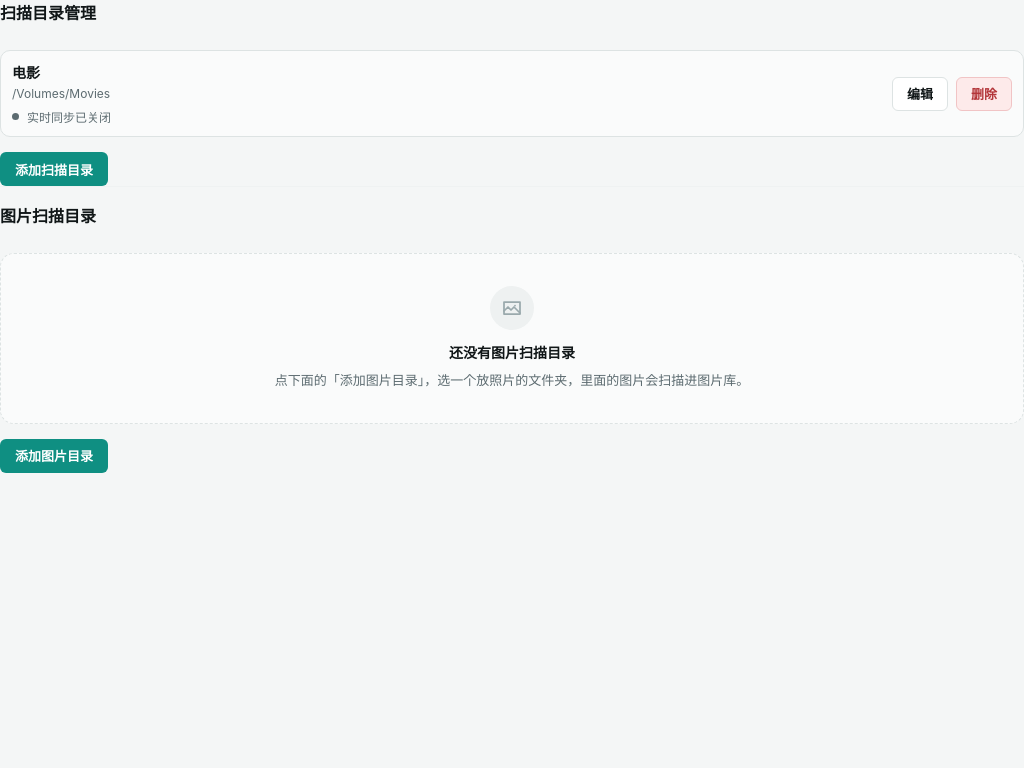
Test: 添加目录的去重与嵌套提示、错误显示（D-PC09） › LIB-14 图片目录的保存失败同样显示出来
The image size is (1024, 768).
Click the button with test id "add-image-directory" at (54, 456), box left=0, top=439, right=108, bottom=473
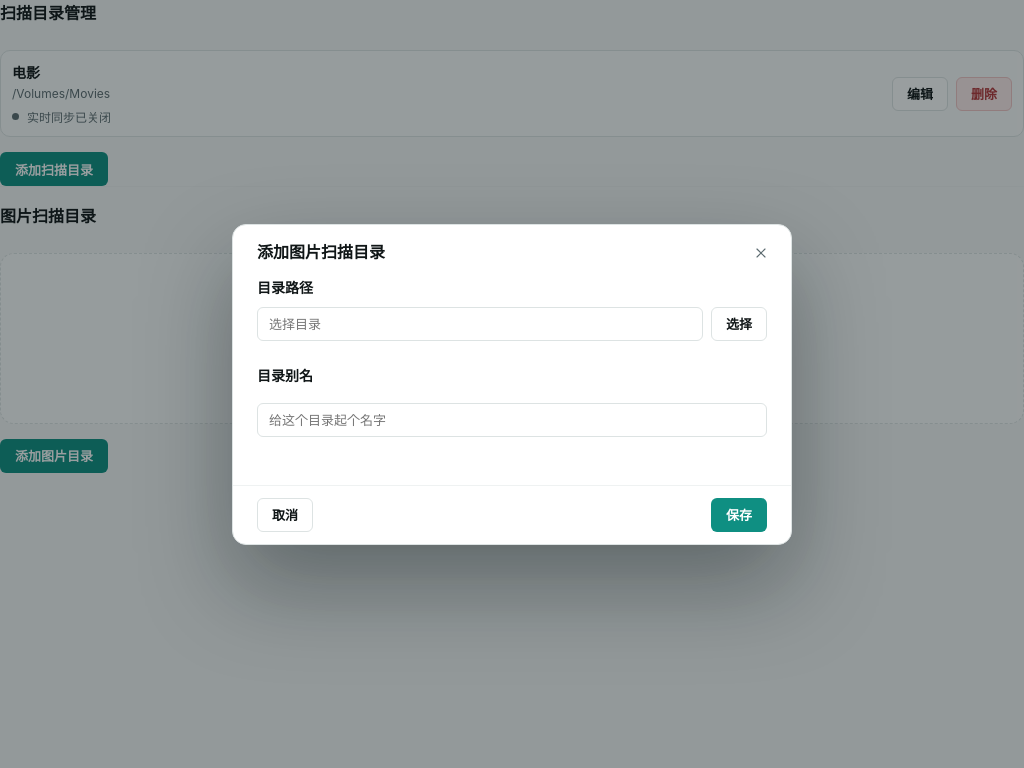
Click the button "选择" at (739, 324), box left=711, top=306, right=767, bottom=340
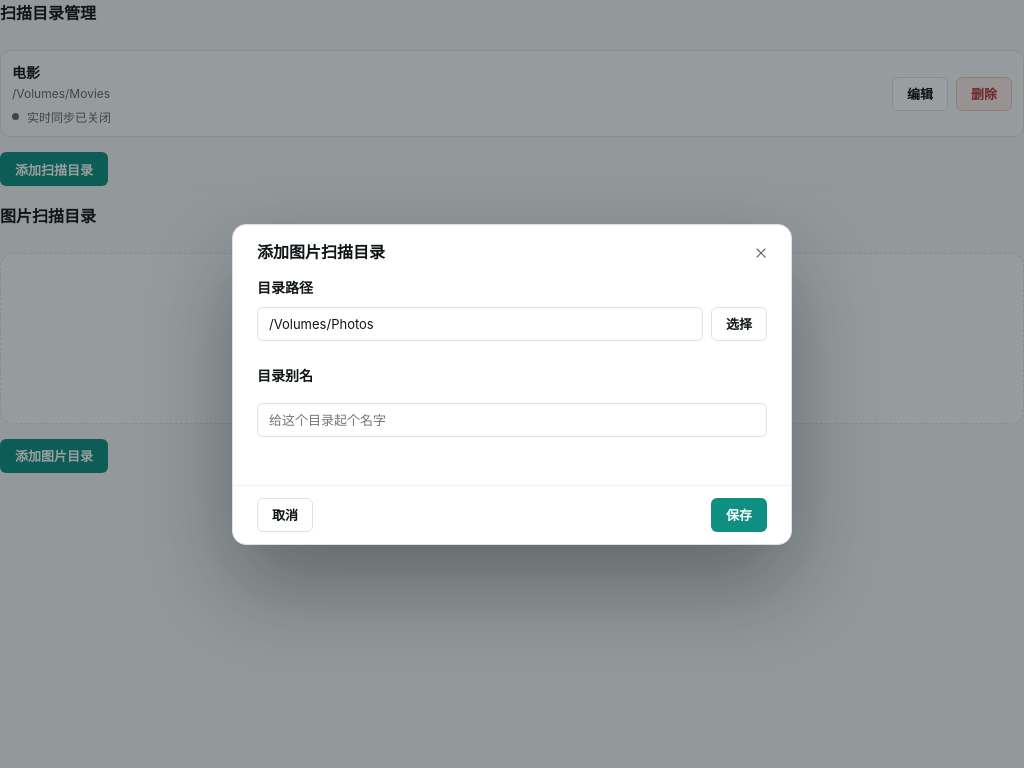
Click the button with test id "save-image-directory" at (739, 514), box left=711, top=498, right=767, bottom=532
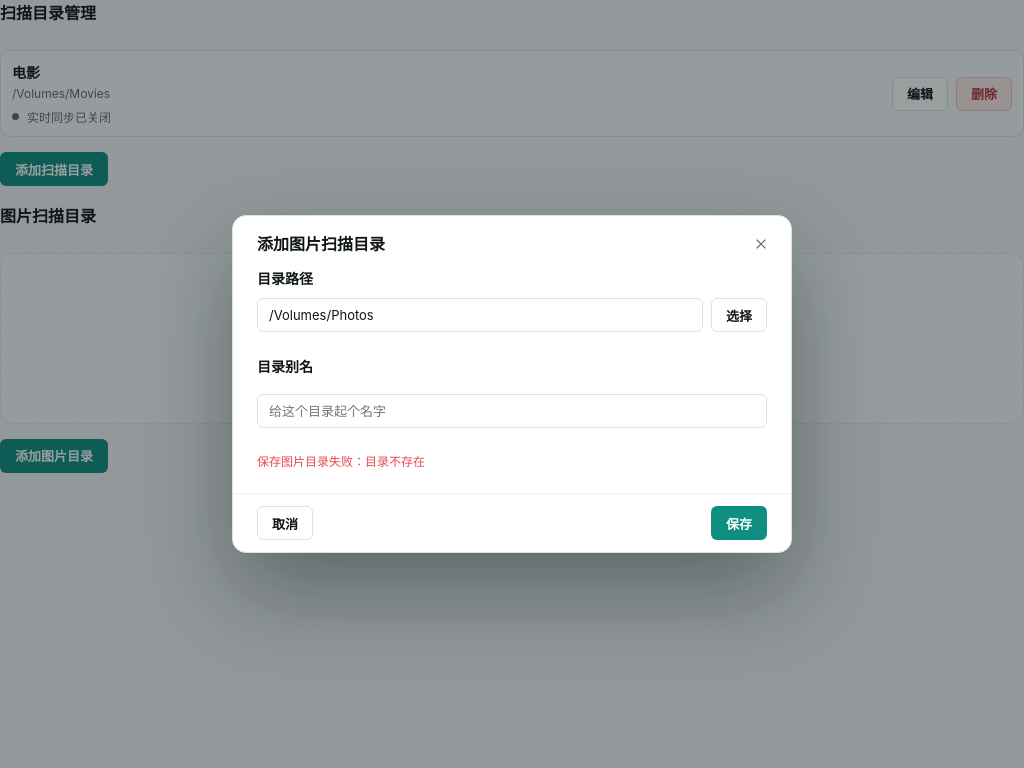
Check: the message with test id "image-directory-dialog-error" reads "保存图片目录失败：目录不存在", box left=257, top=454, right=425, bottom=469
